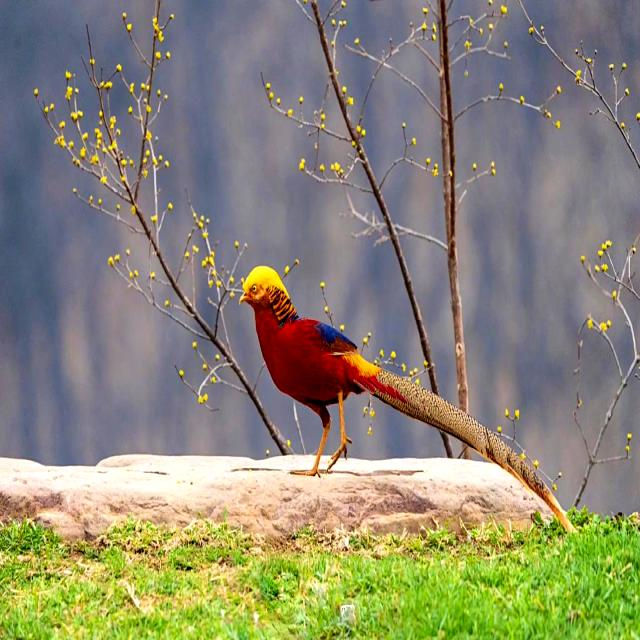Chrysolophus pictus feather: (359, 371, 574, 531)
